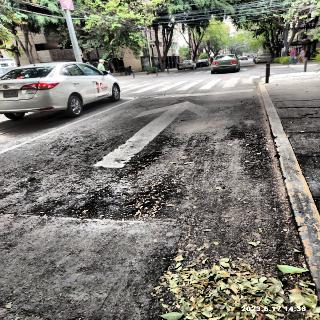pothole: (125, 183, 169, 221)
